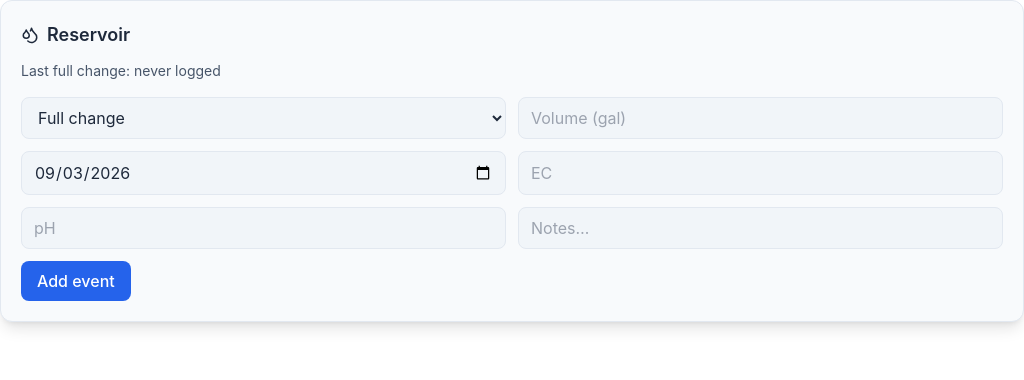
Test: ReservoirLog (MR-46) › shows an inline error and does not submit when volume is empty
The width and height of the screenshot is (1024, 380).
Click the button "Add event".
click(76, 281)  # box [21,261,131,301]
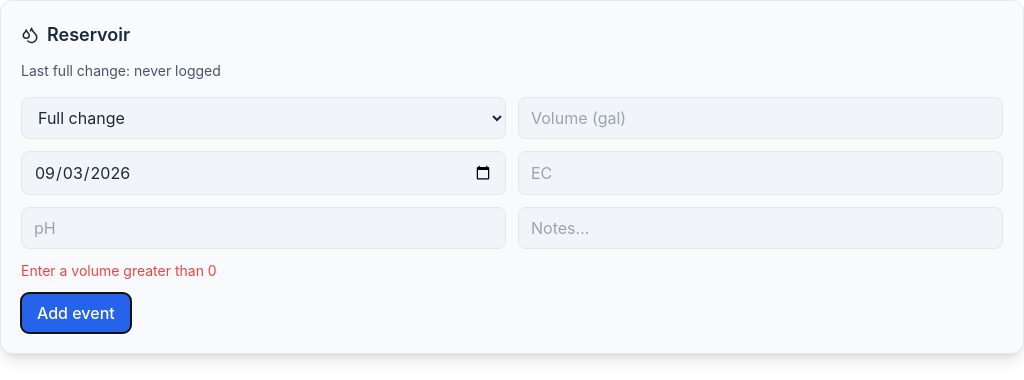
Expected: the text "Enter a volume greater than 0" is shown, [21,262,217,279]
